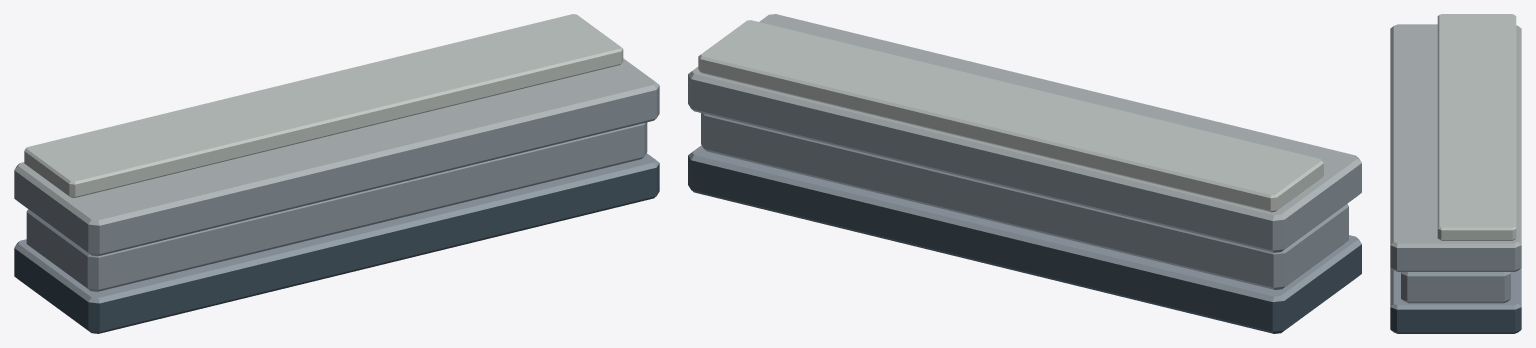
File: wall-low.glb
3 renders of one model, left to right at view 1: azimuth 30°, elevation 25°; view 2: azimuth 150°, elevation 25°; view 3: azimuth 270°, elevation 25°, orthographic. The views are drawn at different scales.
Visible parts, largest first — view 1: wall-low__body; view 2: wall-low__body; view 3: wall-low__body.
Part boxes in pixels (bbox=[...]): wall-low__body: bbox=[14, 14, 659, 333]; wall-low__body: bbox=[688, 14, 1361, 333]; wall-low__body: bbox=[1390, 14, 1521, 333].
Size of the model in its own units: 2 by 0.435 by 0.5.
